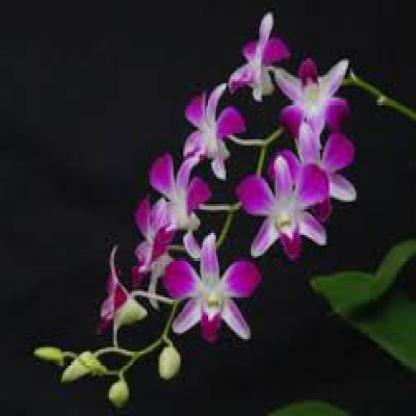ANGGREK: (31, 24, 382, 394)
